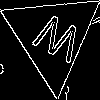W: (27, 11, 85, 73)
